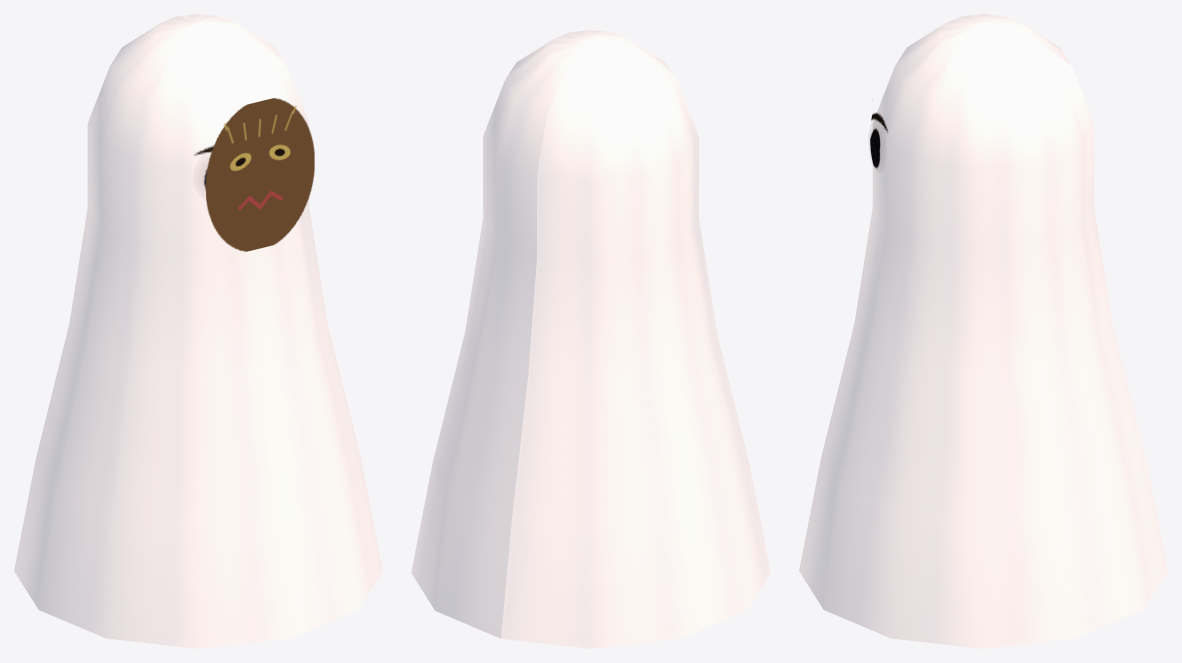
The model's file is spirit.glb.
The picture shows the model from 3 angles, left to right: view 1: azimuth 30°, elevation 25°; view 2: azimuth 150°, elevation 25°; view 3: azimuth 270°, elevation 25°; orthographic projection. The views are drawn at different scales.
Parts seen in each view (by area): view 1: object 1, head; view 2: object 1; view 3: object 1.
Boxes of the visible parts, x1,y1,x2,y2 form: object 1: (14, 14, 382, 648); head: (194, 98, 314, 251); object 1: (411, 30, 770, 648); object 1: (799, 14, 1167, 648).
Size of the model in its own units: 1 by 1.64 by 1.
Materials: 2 (2 with a texture image).
